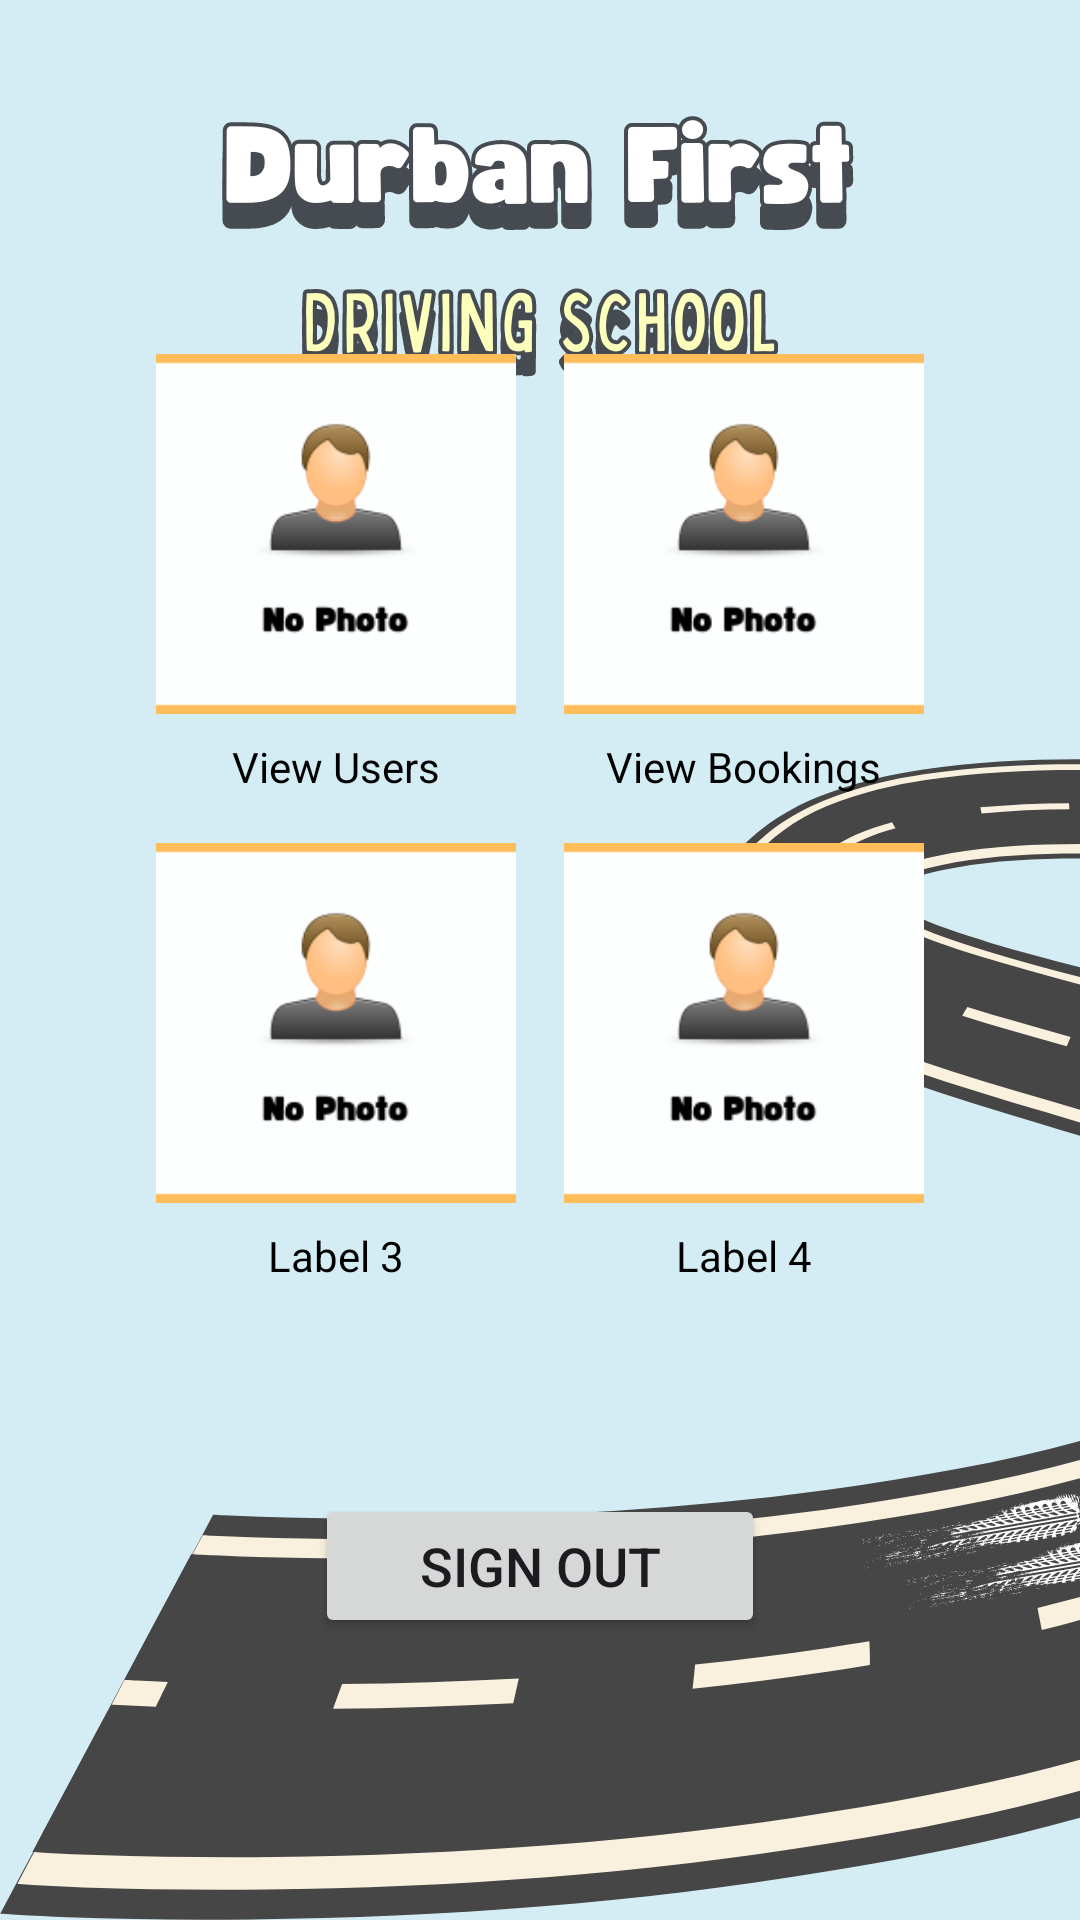

Point at icon controls on the screen. Image size 1080px x 1920px, points as (x=x, y=y).
dummp profile: (x=336, y=534), (x=744, y=534), (x=336, y=1023), (x=744, y=1023)
